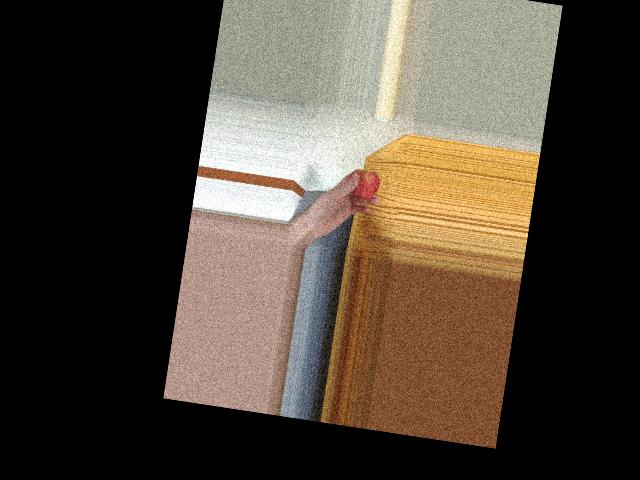apple: (346, 165, 380, 201)
